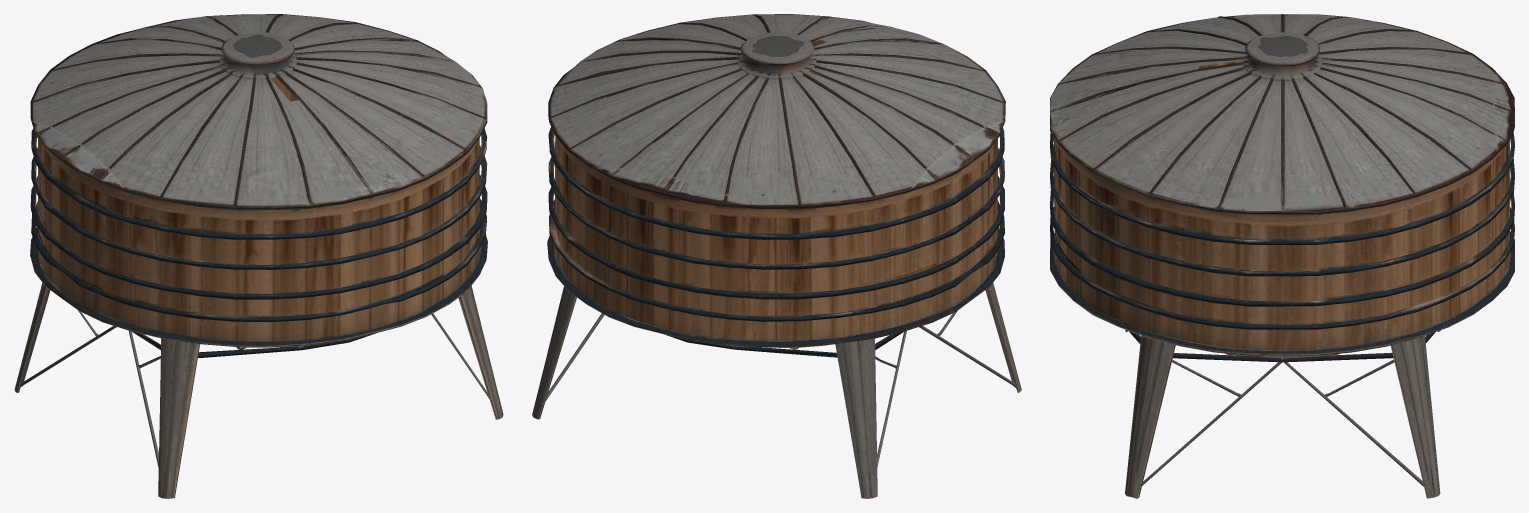
Rendered from roof-tank.glb.
The picture shows the model from 3 angles, left to right: view 1: azimuth 30°, elevation 25°; view 2: azimuth 150°, elevation 25°; view 3: azimuth 270°, elevation 25°; orthographic projection. The views are drawn at different scales.
Size of the model in its own units: 1 by 0.871 by 1.
1 material, 1 textured.
